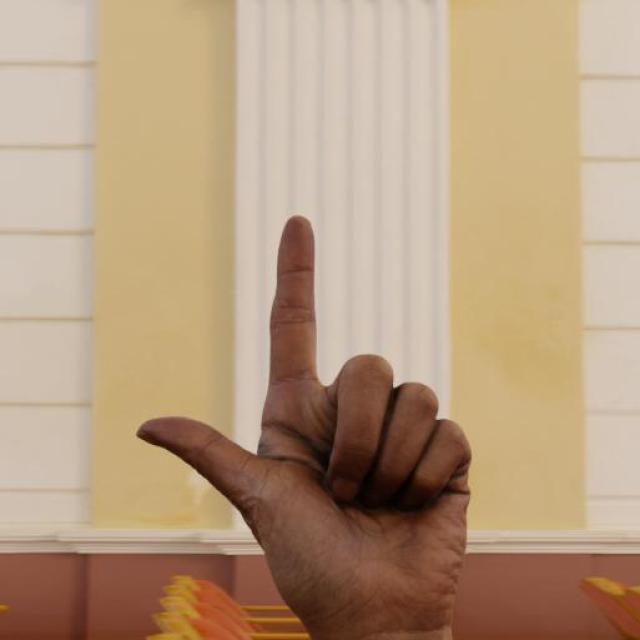L: (110, 172, 523, 640)
